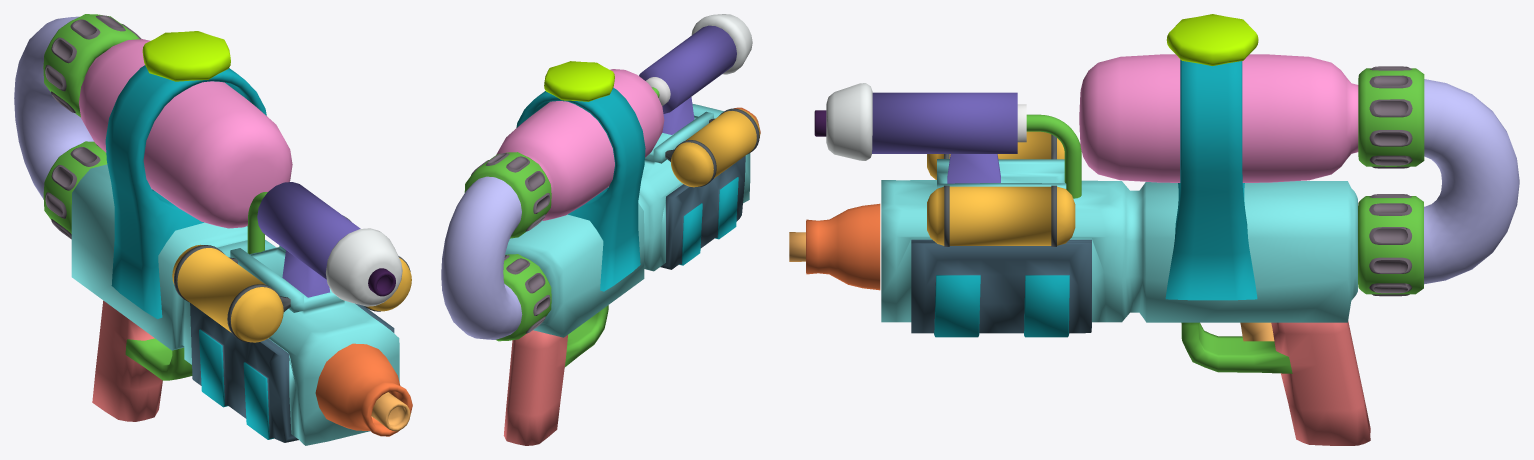
File: Watergun10.fbx
3 renders of one model, left to right at view 1: azimuth 30°, elevation 25°; view 2: azimuth 150°, elevation 25°; view 3: azimuth 270°, elevation 25°, orthographic. The views are drawn at different scales.
Visible parts, largest first — view 1: Watergun10; view 2: Watergun10; view 3: Watergun10.
Boxes of the visible parts, box(x1,y1,x2,y2) form: Watergun10: box(14, 14, 412, 445); Watergun10: box(441, 14, 760, 445); Watergun10: box(789, 14, 1519, 445).
Bounding box in the file's own units: 0.1178 × 0.2515 × 0.4107.
